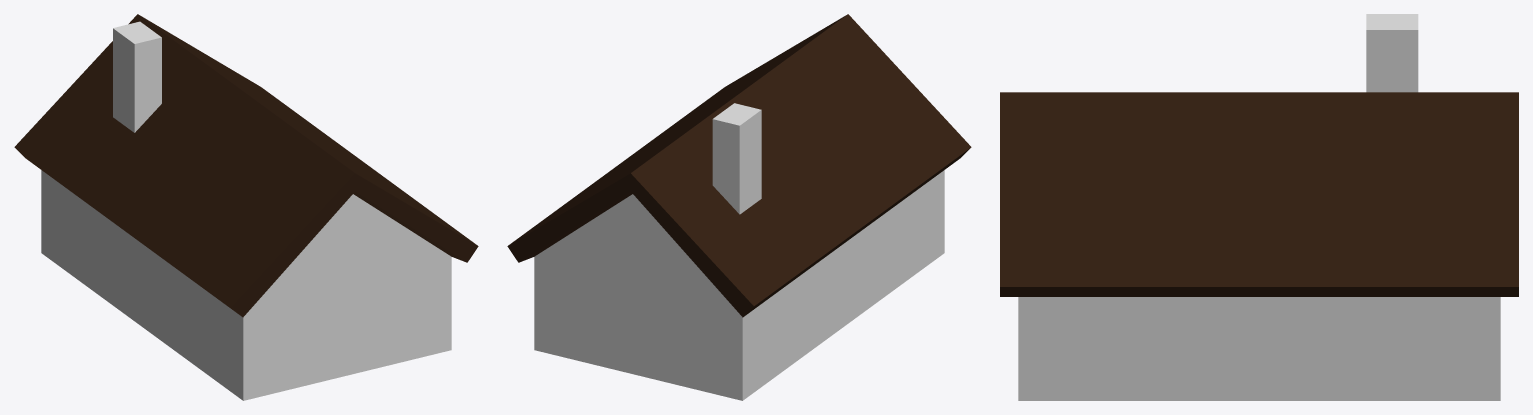
Rendered from FeelSquashAndStretchChalet.fbx.
3 views of the same model, side by side, from view 1: azimuth 30°, elevation 25°; view 2: azimuth 150°, elevation 25°; view 3: azimuth 270°, elevation 25° (orthographic). The views are drawn at different scales.
Parts seen in each view (by area): view 1: Cube; view 2: Cube; view 3: Cube.
Part boxes in pixels (left/top/right/bottom): Cube: left=14, top=14, right=478, bottom=400; Cube: left=507, top=14, right=971, bottom=400; Cube: left=1000, top=14, right=1518, bottom=400.
Bounding box in the file's own units: 237 × 221 × 362.
